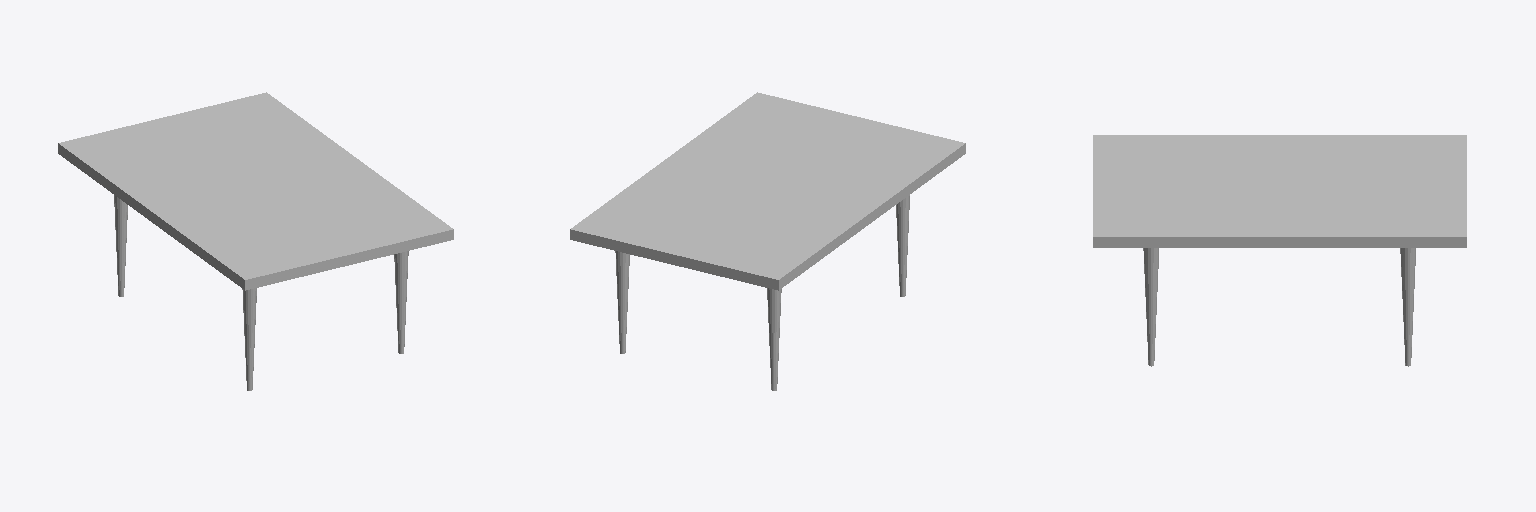
The model's file is table1.obj.
3 renders of one model, left to right at view 1: azimuth 30°, elevation 25°; view 2: azimuth 150°, elevation 25°; view 3: azimuth 270°, elevation 25°, orthographic.
Visible parts, largest first — view 1: Merged_Meshes1; view 2: Merged_Meshes1; view 3: Merged_Meshes1.
Part boxes in pixels (bbox=[...]): Merged_Meshes1: bbox=[58, 92, 453, 390]; Merged_Meshes1: bbox=[570, 92, 965, 390]; Merged_Meshes1: bbox=[1093, 135, 1466, 366].
Bounding box in the file's own units: 8.3 × 5.3 × 12.9.